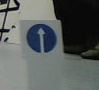forward: (27, 24, 57, 54)
